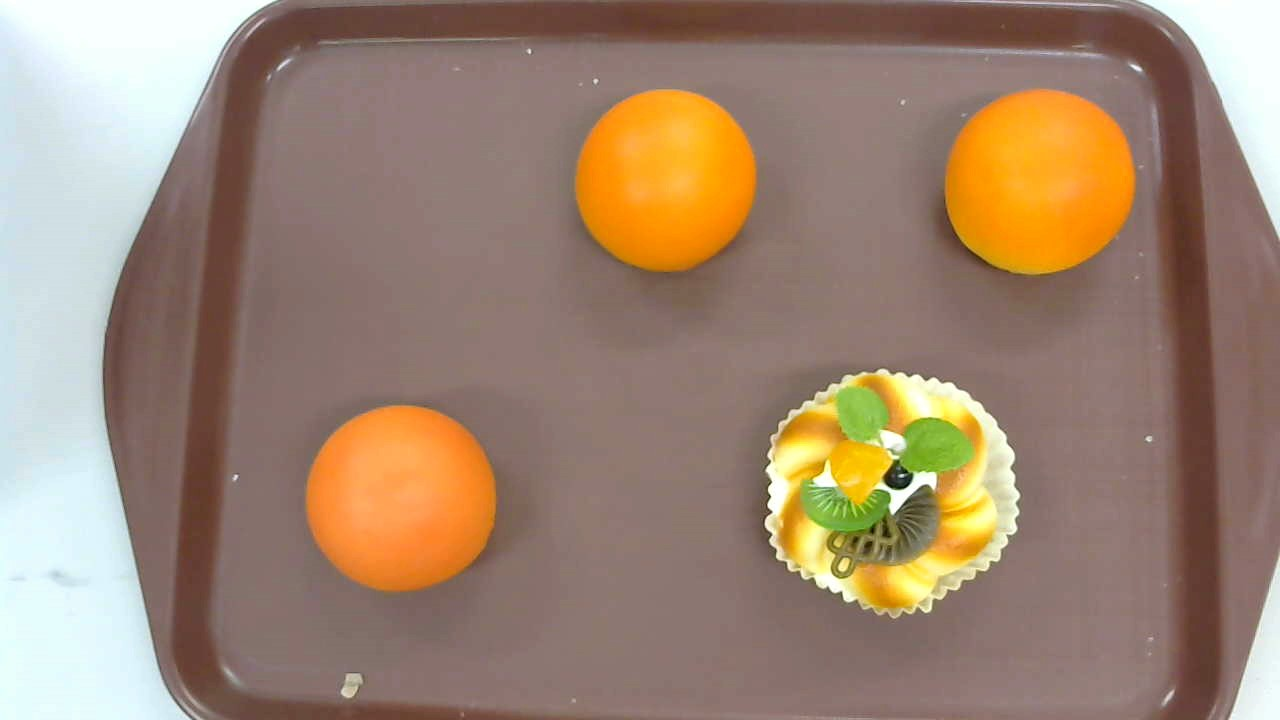bun: (943, 85, 1135, 277), (306, 404, 496, 592), (574, 88, 756, 272)
fruit tart: (764, 368, 1020, 619)
